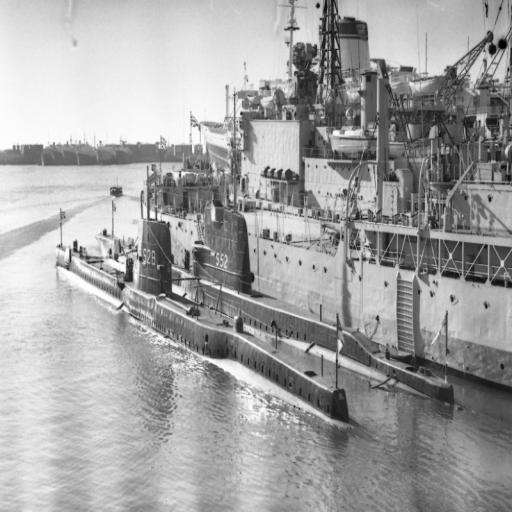submarine: (98, 204, 456, 404), (54, 220, 352, 422)
